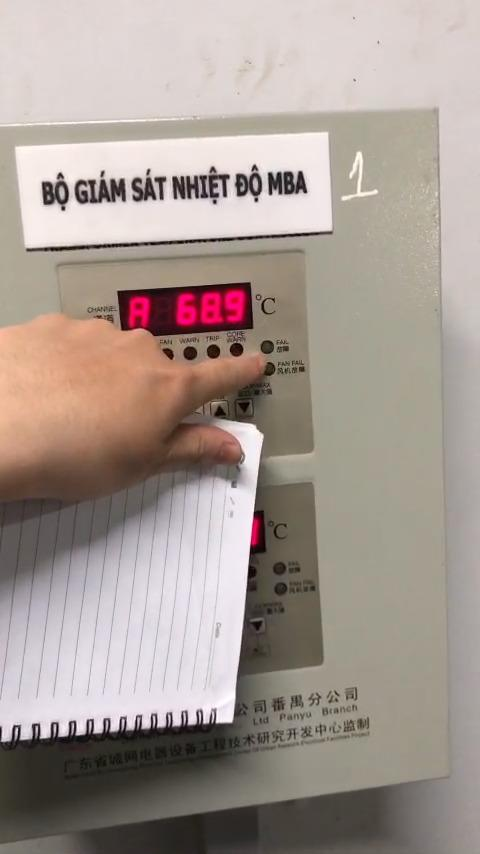led: (206, 343, 223, 360), (259, 339, 276, 355), (229, 342, 245, 358), (182, 346, 198, 361), (263, 362, 278, 377), (161, 347, 175, 361), (274, 582, 288, 596), (274, 561, 287, 576), (246, 564, 257, 580)
